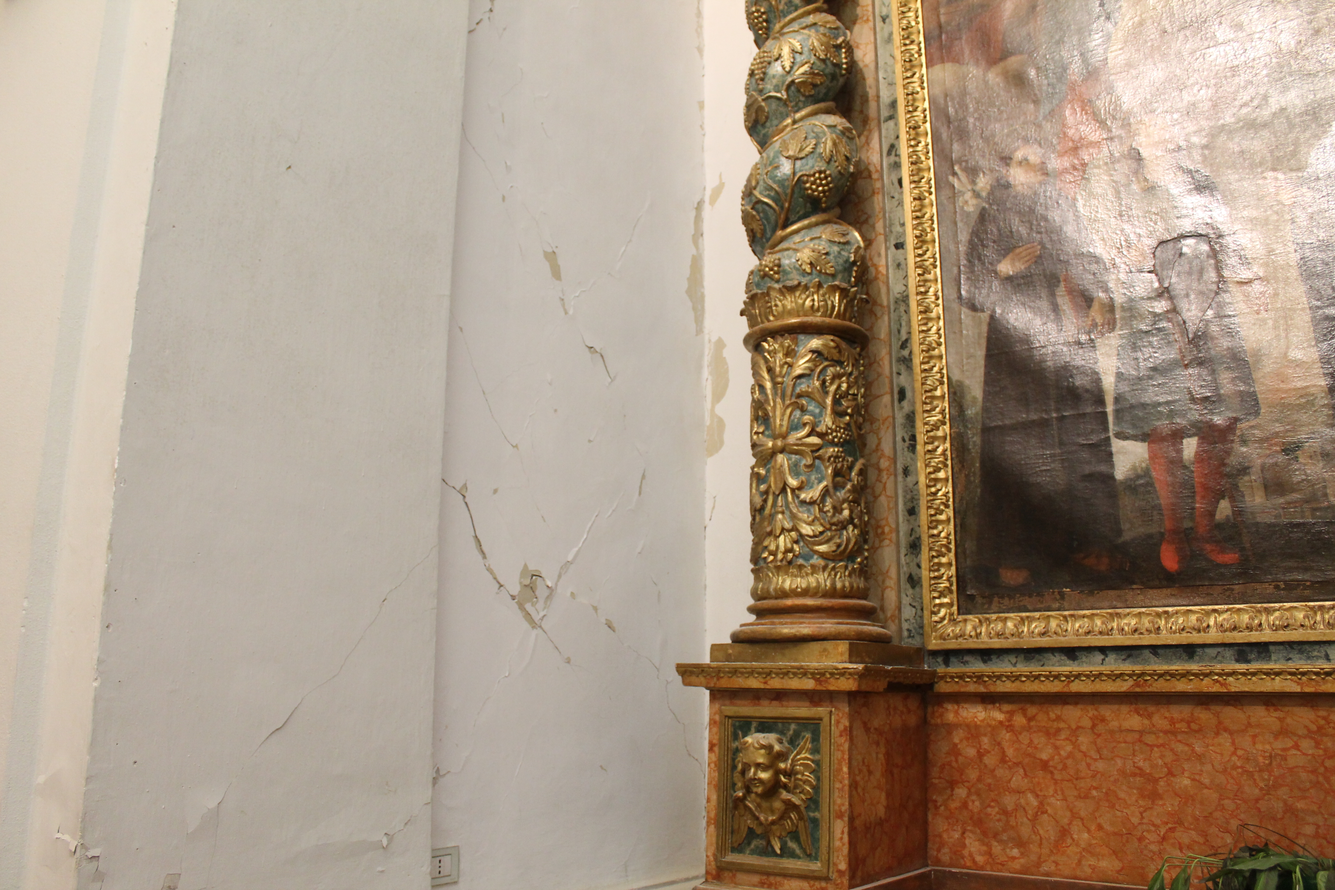Crack: (73, 3, 717, 876)
